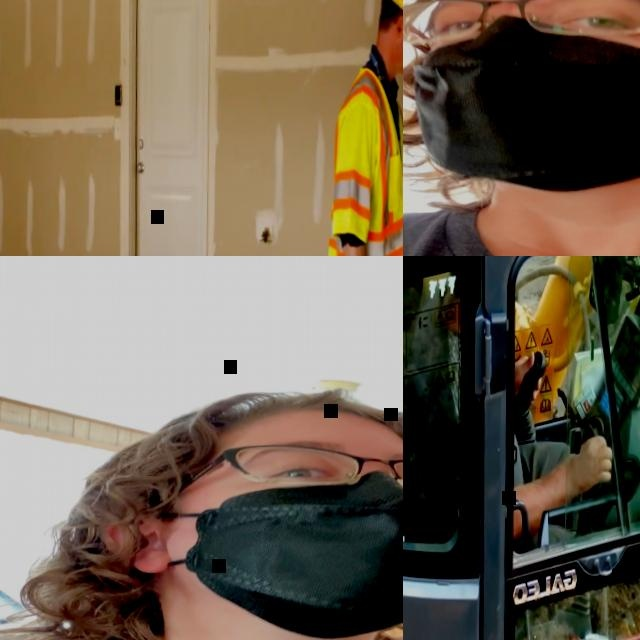Mask: (154, 465, 403, 640), (403, 14, 640, 194)
NO-Hardhat: (130, 387, 403, 466)
NO-Mask: (392, 47, 403, 76)
NO-Safety Vest: (403, 197, 640, 256)
Person: (0, 380, 403, 640), (403, 0, 640, 256), (440, 272, 617, 590), (323, 0, 403, 256)
Safety Vest: (327, 68, 403, 256)
machinery: (403, 256, 640, 640), (507, 256, 640, 488)
